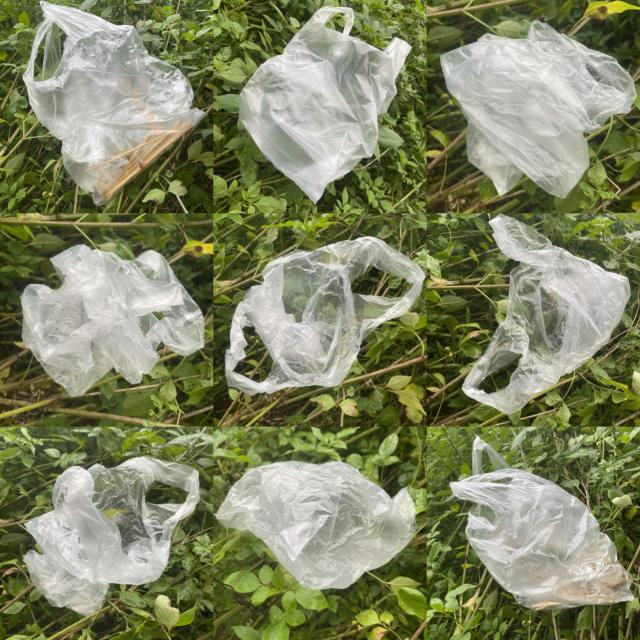Single-layer Plastic: (24, 1, 205, 205), (440, 21, 636, 198), (239, 6, 411, 202), (462, 215, 630, 415), (225, 236, 424, 395), (450, 436, 631, 609), (24, 456, 199, 616), (21, 245, 204, 396), (216, 461, 416, 590)
